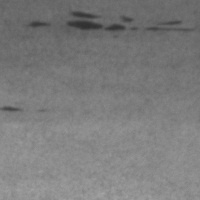inclusion: (63, 9, 199, 35), (25, 16, 53, 33), (0, 104, 33, 117)
